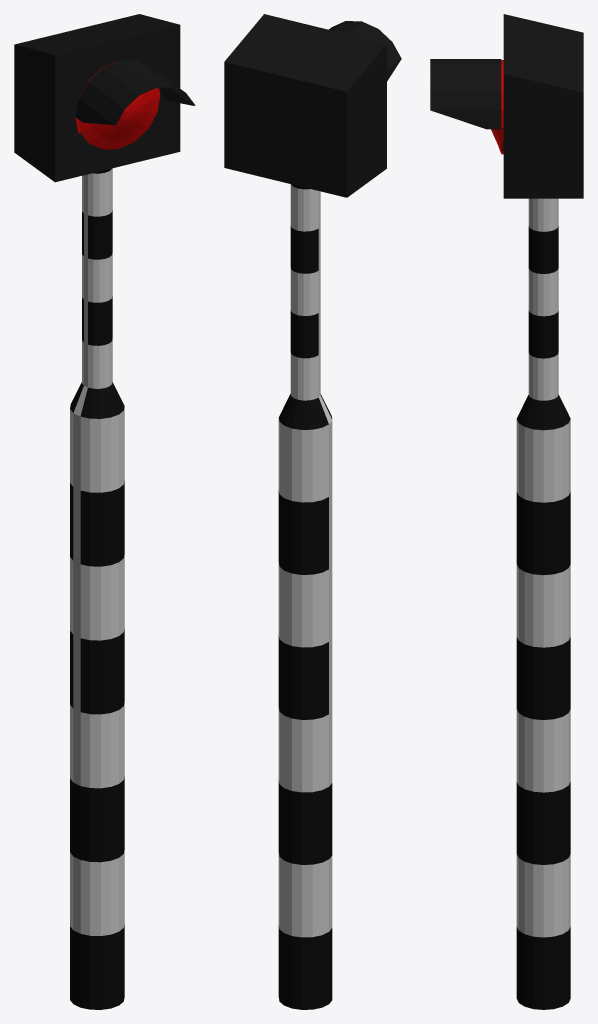
The model's file is Warninglight.obj.
3 renders of one model, left to right at view 1: azimuth 30°, elevation 25°; view 2: azimuth 150°, elevation 25°; view 3: azimuth 270°, elevation 25°, orthographic.
Visible parts, largest first — view 1: Warning_Light_Cylinder.002, Light_Cube.003; view 2: Warning_Light_Cylinder.002, Light_Cube.003; view 3: Warning_Light_Cylinder.002, Light_Cube.003.
Boxes of the visible parts, x1,y1,x2,y2 form: Warning_Light_Cylinder.002: [70, 168, 124, 1009]; Light_Cube.003: [14, 14, 195, 182]; Warning_Light_Cylinder.002: [278, 184, 332, 1009]; Light_Cube.003: [224, 14, 401, 197]; Warning_Light_Cylinder.002: [516, 198, 570, 1009]; Light_Cube.003: [430, 14, 583, 198].
Bounding box in the file's own units: 0.5144 × 3.82 × 0.556.
